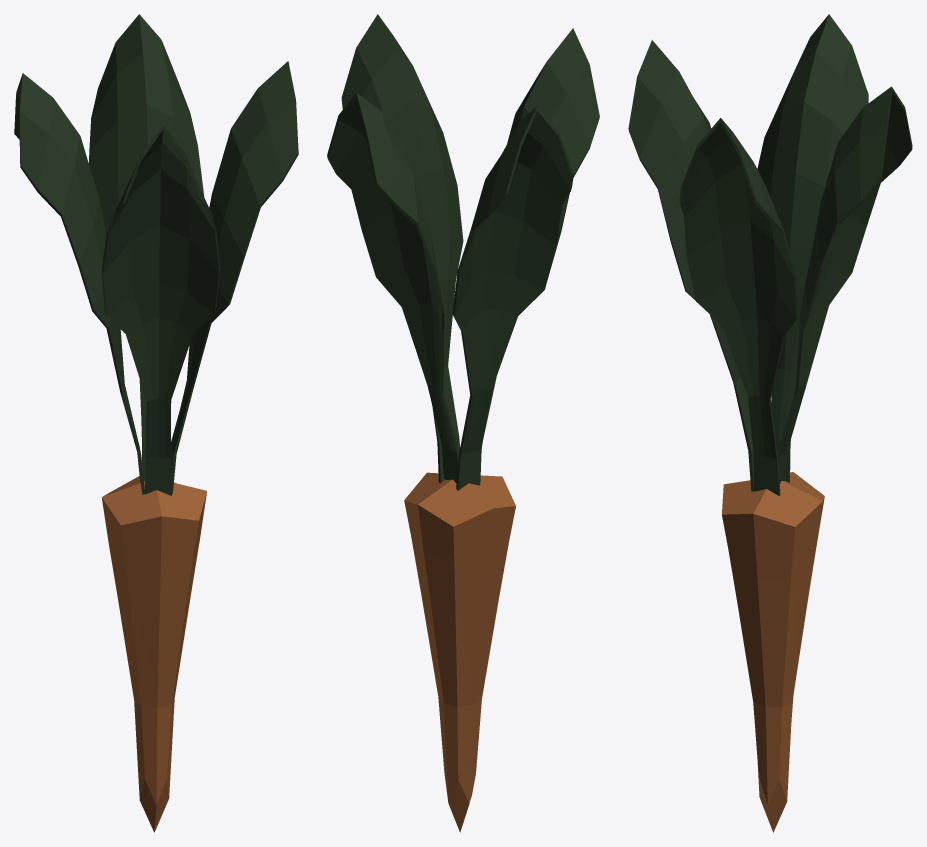
File: food-Carrot.glb
The picture shows the model from 3 angles, left to right: view 1: azimuth 30°, elevation 25°; view 2: azimuth 150°, elevation 25°; view 3: azimuth 270°, elevation 25°; orthographic projection.
Visible parts, largest first — view 1: Carrot; view 2: Carrot; view 3: Carrot.
Boxes of the visible parts, x1,y1,x2,y2 form: Carrot: [14, 14, 298, 832]; Carrot: [327, 14, 599, 832]; Carrot: [628, 14, 912, 832].
Bounding box in the file's own units: 0.9468 × 2.78 × 0.9315.
